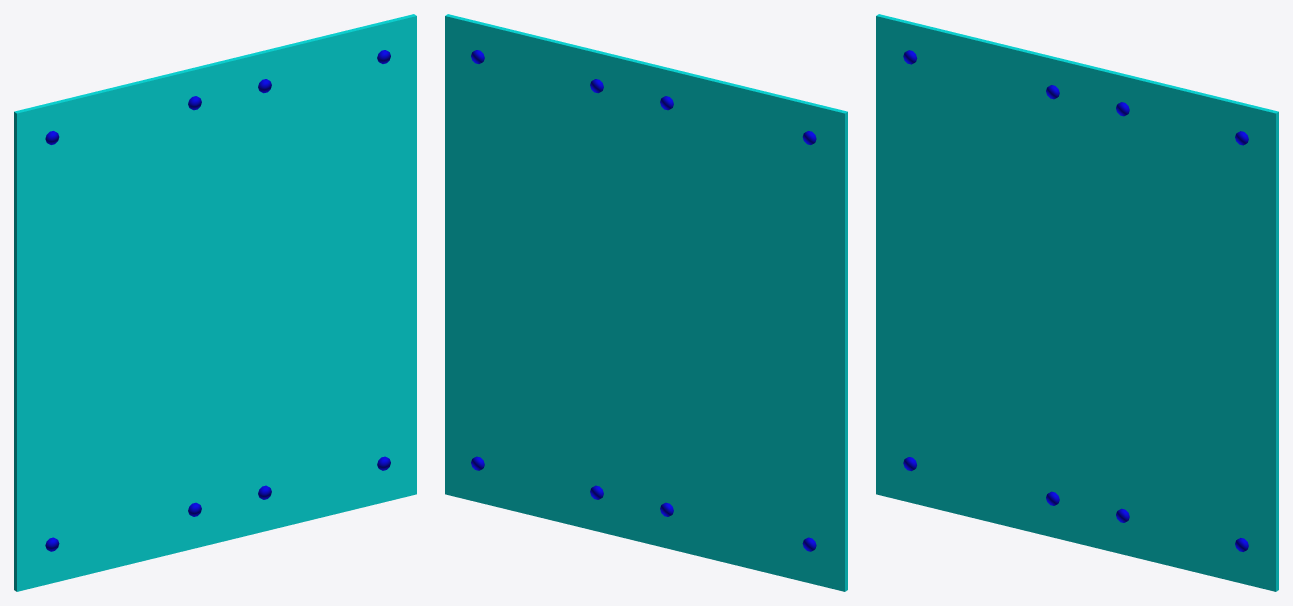
The model's file is cuadro_17_low.fbx.
3 renders of one model, left to right at view 1: azimuth 30°, elevation 25°; view 2: azimuth 150°, elevation 25°; view 3: azimuth 330°, elevation 25°, orthographic.
Parts seen in each view (by area): view 1: cuadro_izq, cuadro_der; view 2: cuadro_izq, cuadro_der; view 3: cuadro_der, cuadro_izq.
Part boxes in pixels (x1=…): cuadro_izq: x1=14, y1=63, x2=216, y2=591; cuadro_der: x1=214, y1=14, x2=416, y2=542; cuadro_izq: x1=645, y1=63, x2=847, y2=591; cuadro_der: x1=445, y1=14, x2=647, y2=542; cuadro_der: x1=1076, y1=63, x2=1278, y2=591; cuadro_izq: x1=876, y1=14, x2=1078, y2=542.
Bounding box in the file's own units: 84 × 96 × 2.
